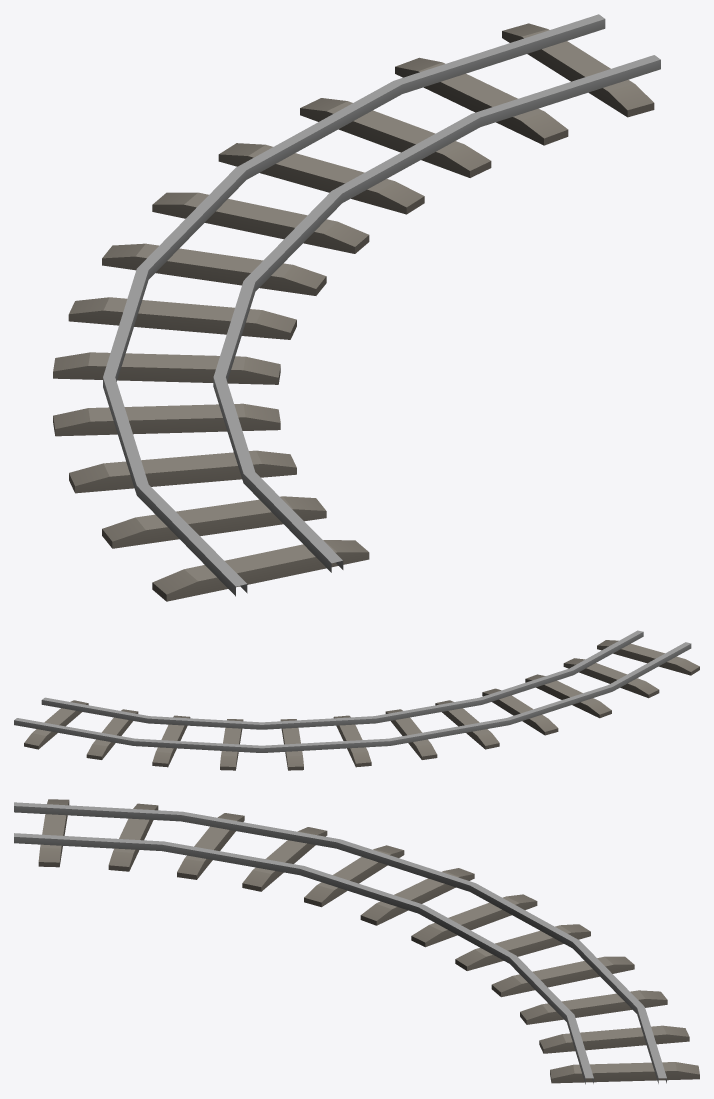
The model's file is Railway_Line_90_R.fbx.
3 renders of one model, top to bottom at view 1: azimuth 30°, elevation 25°; view 2: azimuth 150°, elevation 25°; view 3: azimuth 270°, elevation 25°, orthographic. The views are drawn at different scales.
Visible parts, largest first — view 1: Railway_Line_90_R; view 2: Railway_Line_90_R; view 3: Railway_Line_90_R.
Boxes of the visible parts, x1,y1,x2,y2 form: Railway_Line_90_R: (53, 14, 660, 601); Railway_Line_90_R: (14, 630, 699, 770); Railway_Line_90_R: (14, 799, 699, 1084).
Bounding box in the file's own units: 2085 × 51.82 × 2085.
